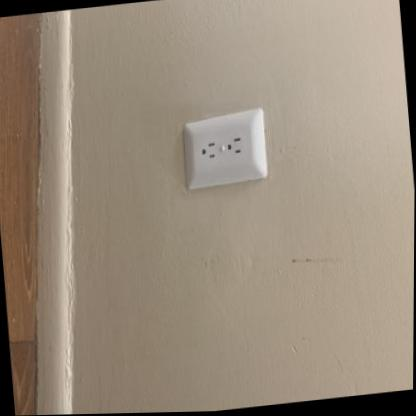OUTLET: (176, 106, 270, 193)
